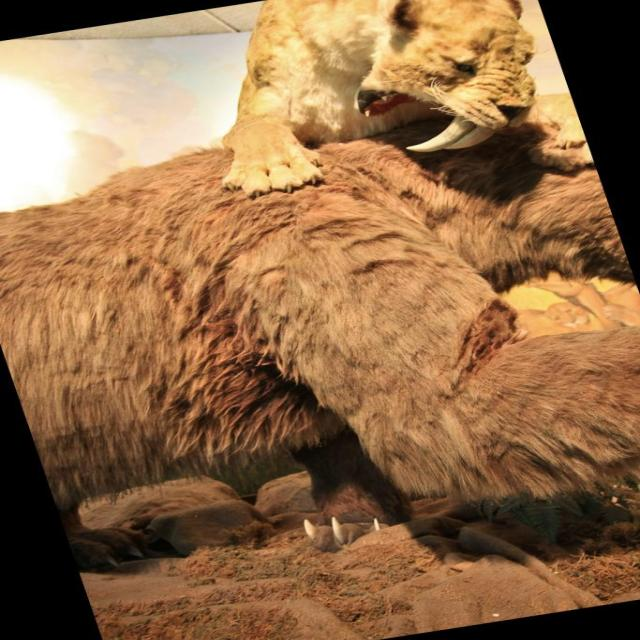Lion: (166, 0, 571, 201)
